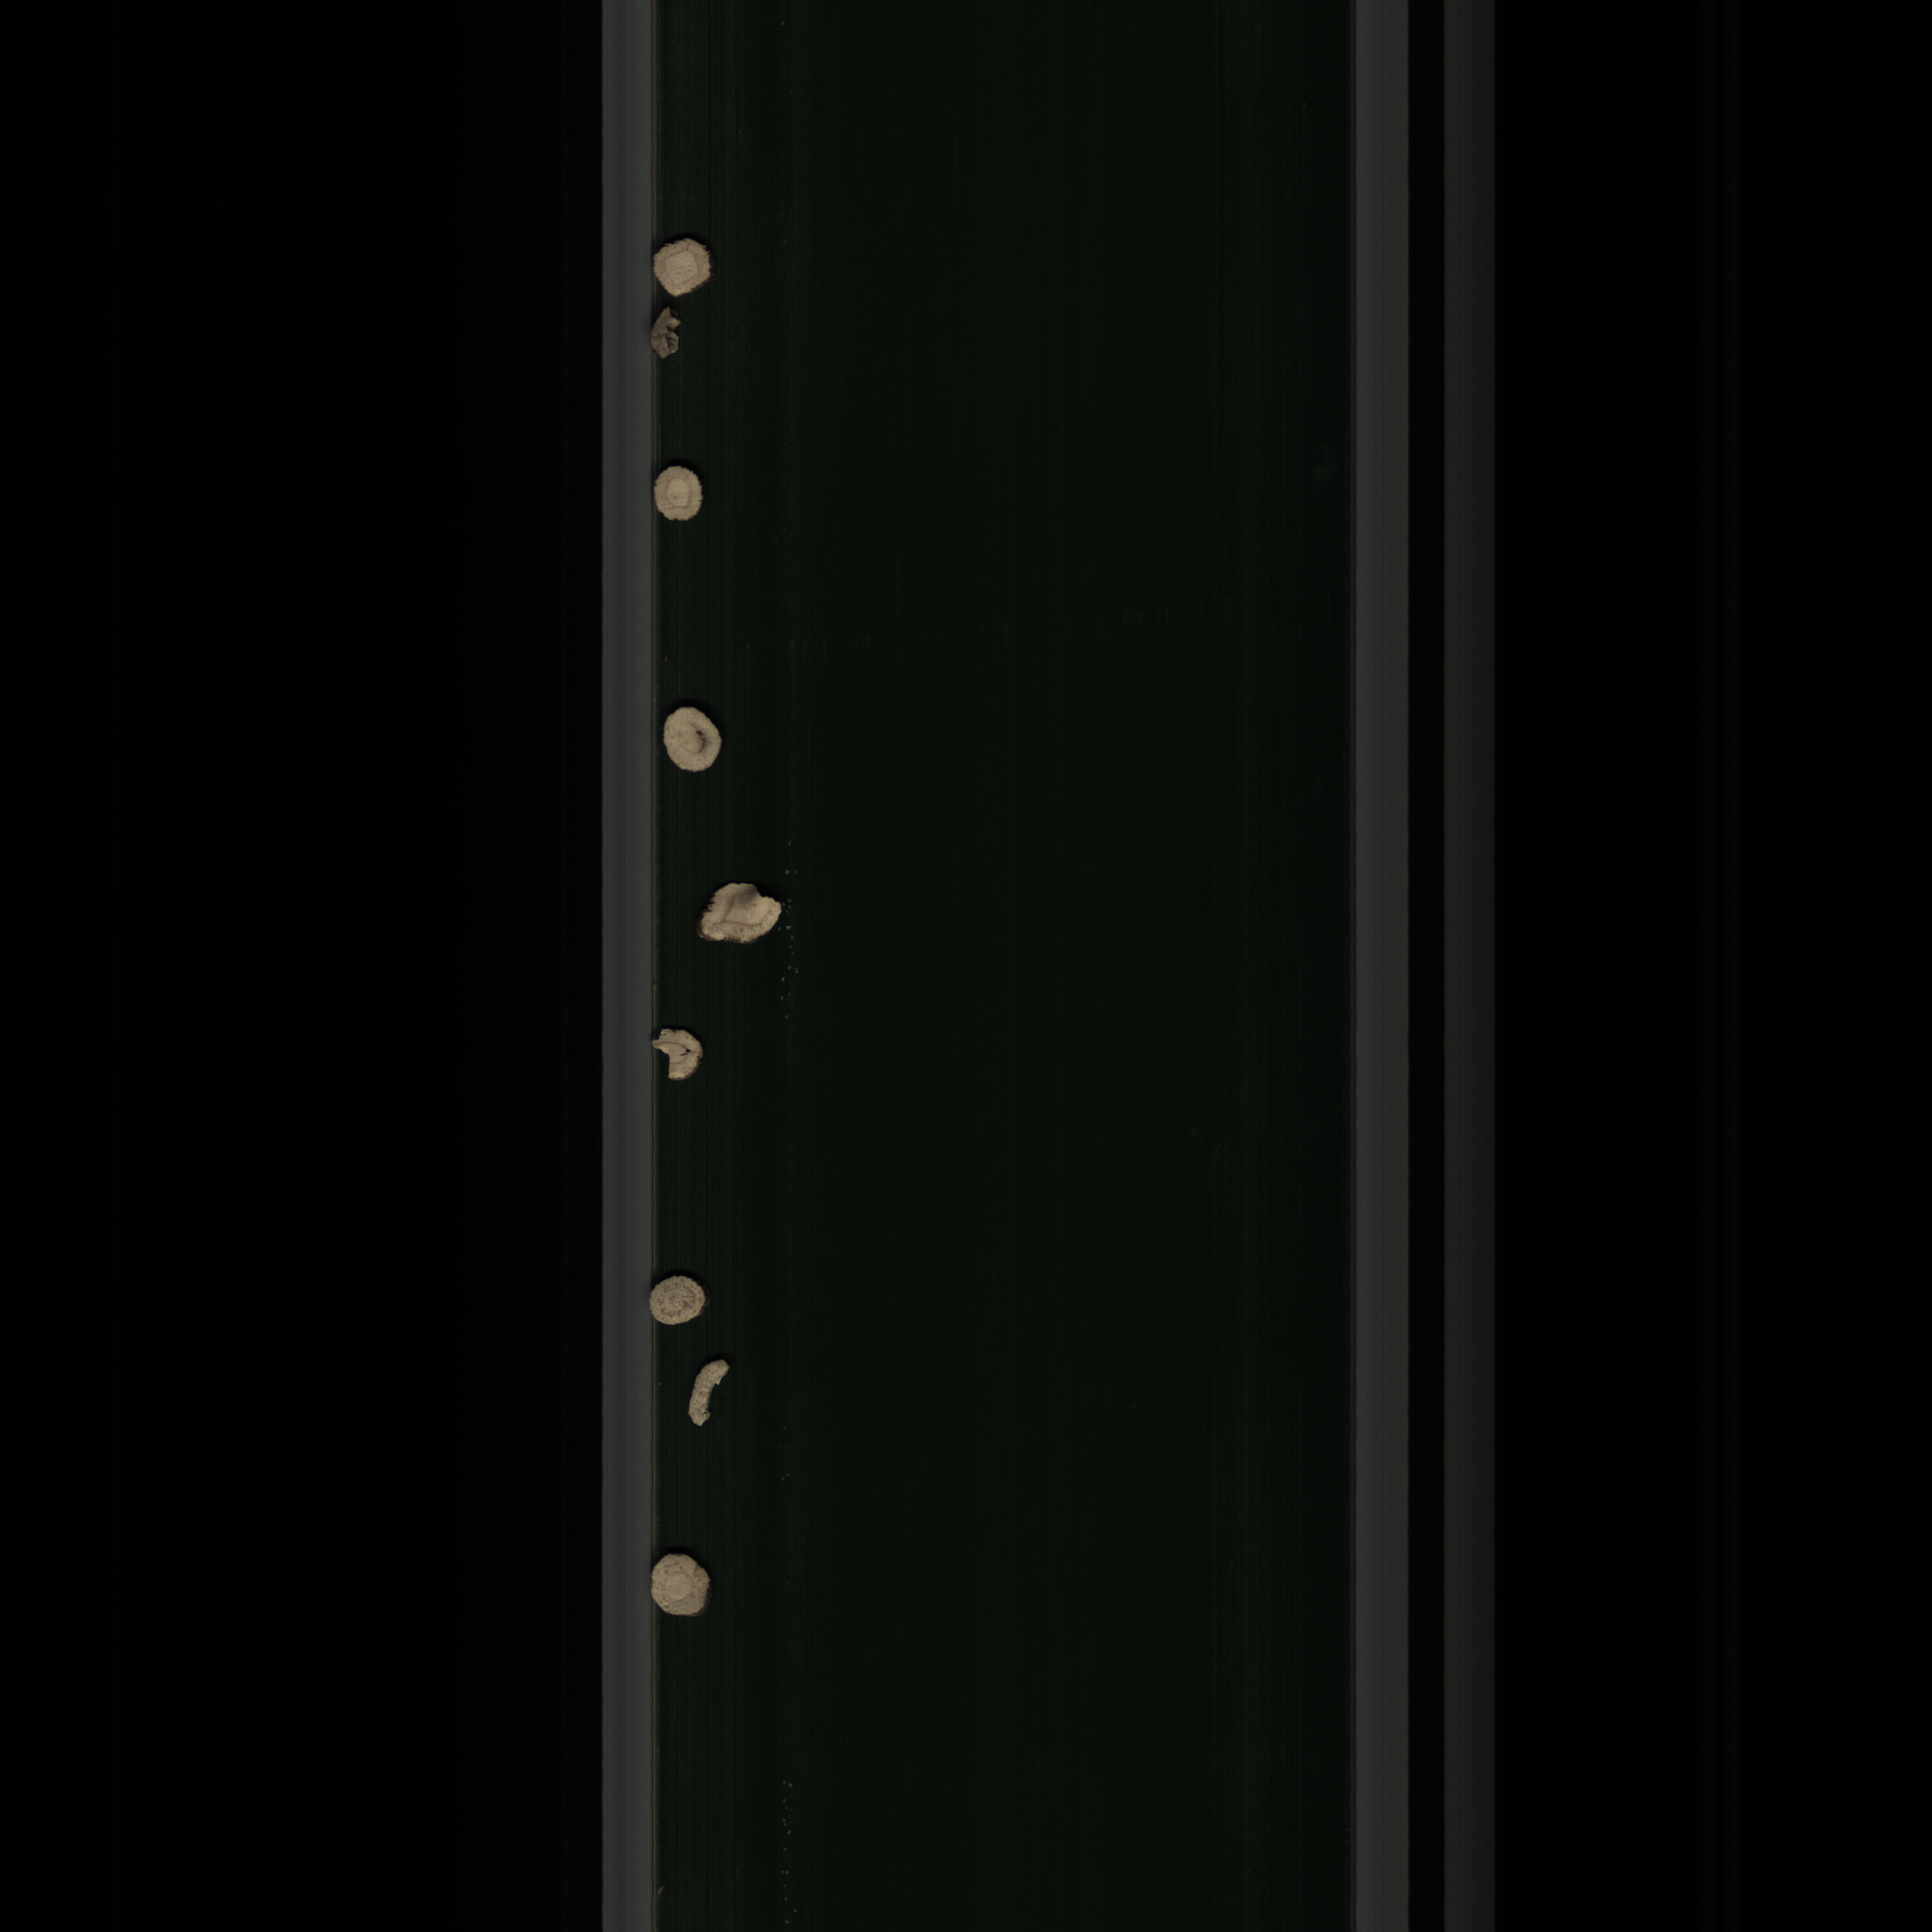bark: (648, 304, 692, 373)
debris: (688, 872, 787, 948), (685, 1352, 736, 1426), (653, 1024, 704, 1088)
